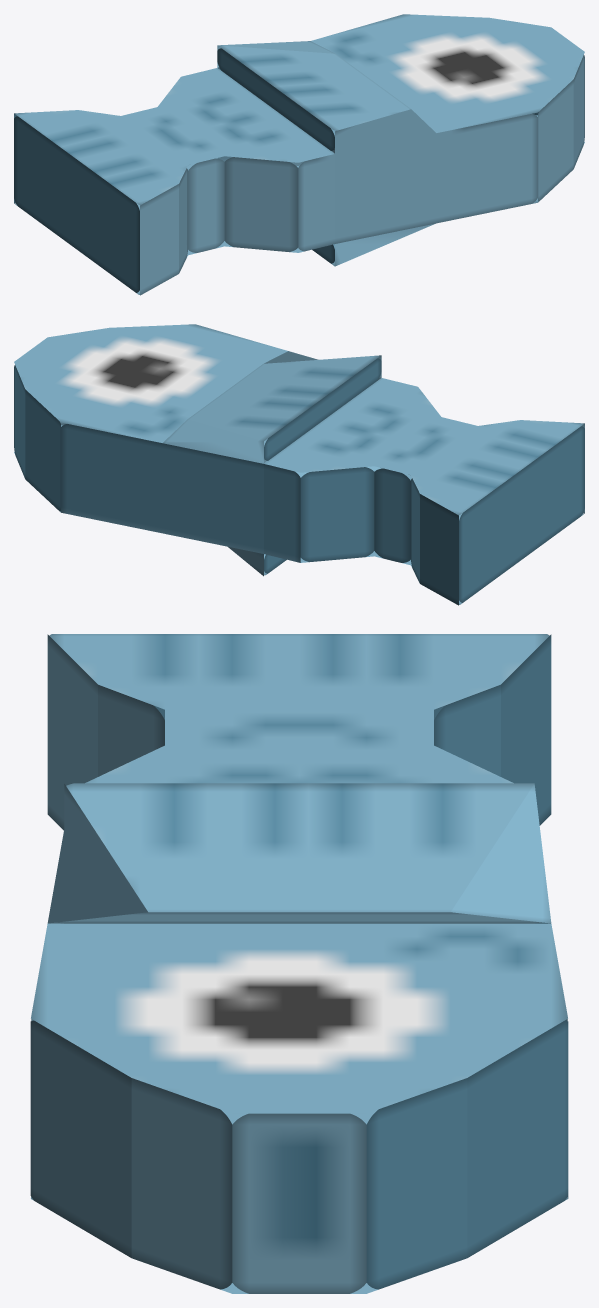
File: Fish Model.fbx
3 views of the same model, one above another, from view 1: azimuth 30°, elevation 25°; view 2: azimuth 150°, elevation 25°; view 3: azimuth 270°, elevation 25° (orthographic). The views are drawn at different scales.
Parts seen in each view (by area): view 1: cuboid; view 2: cuboid; view 3: cuboid.
Boxes of the visible parts, left/top/right/bottom form: cuboid: left=14, top=14, right=584, bottom=295; cuboid: left=14, top=324, right=584, bottom=605; cuboid: left=30, top=634, right=568, bottom=1293.
Bounding box in the file's own units: 59.38 × 15.62 × 28.12.
1 material, 1 textured.
